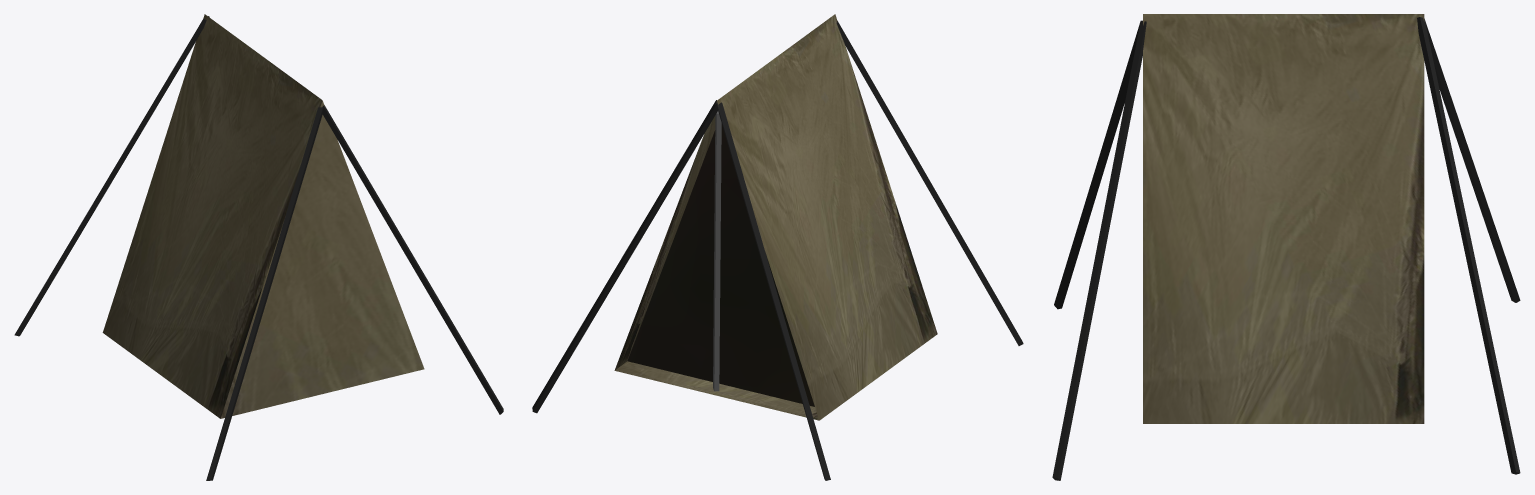
Rendered from Military tent 3.fbx.
3 renders of one model, left to right at view 1: azimuth 30°, elevation 25°; view 2: azimuth 150°, elevation 25°; view 3: azimuth 270°, elevation 25°, orthographic. The views are drawn at different scales.
Parts seen in each view (by area): view 1: tent 1; view 2: tent 1; view 3: tent 1.
Part boxes in pixels (x1=…): tent 1: x1=14, y1=14, x2=503, y2=480; tent 1: x1=532, y1=14, x2=1023, y2=480; tent 1: x1=1052, y1=14, x2=1520, y2=480.
Bounding box in the file's own units: 2.92 × 3.33 × 3.02.
4 materials, 2 textured.
